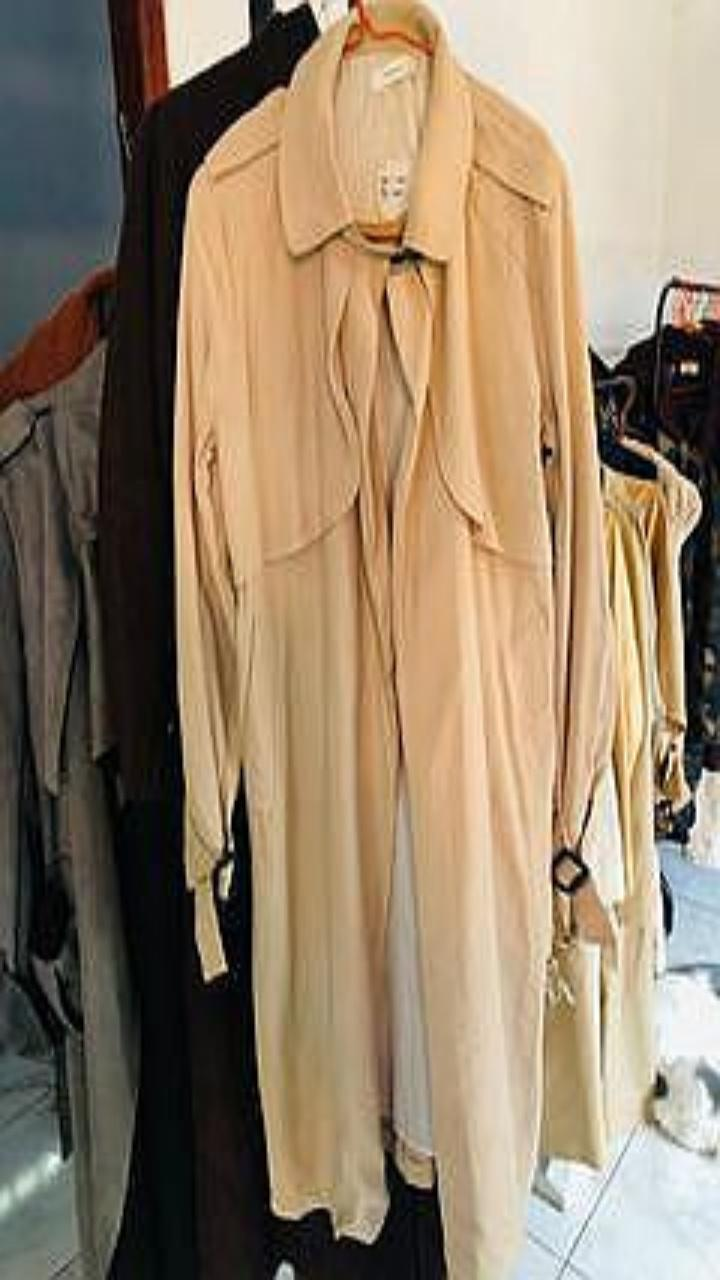Coat: (175, 5, 610, 1279), (0, 345, 138, 1279)
